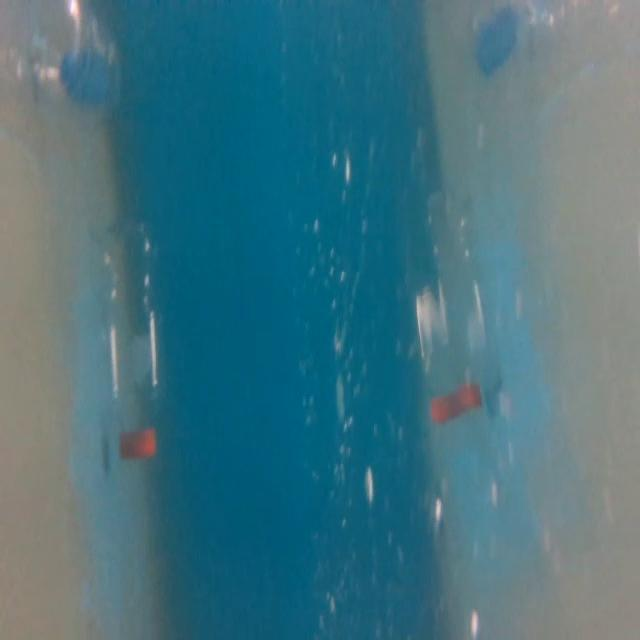plastic bottle: (89, 206, 177, 468)
